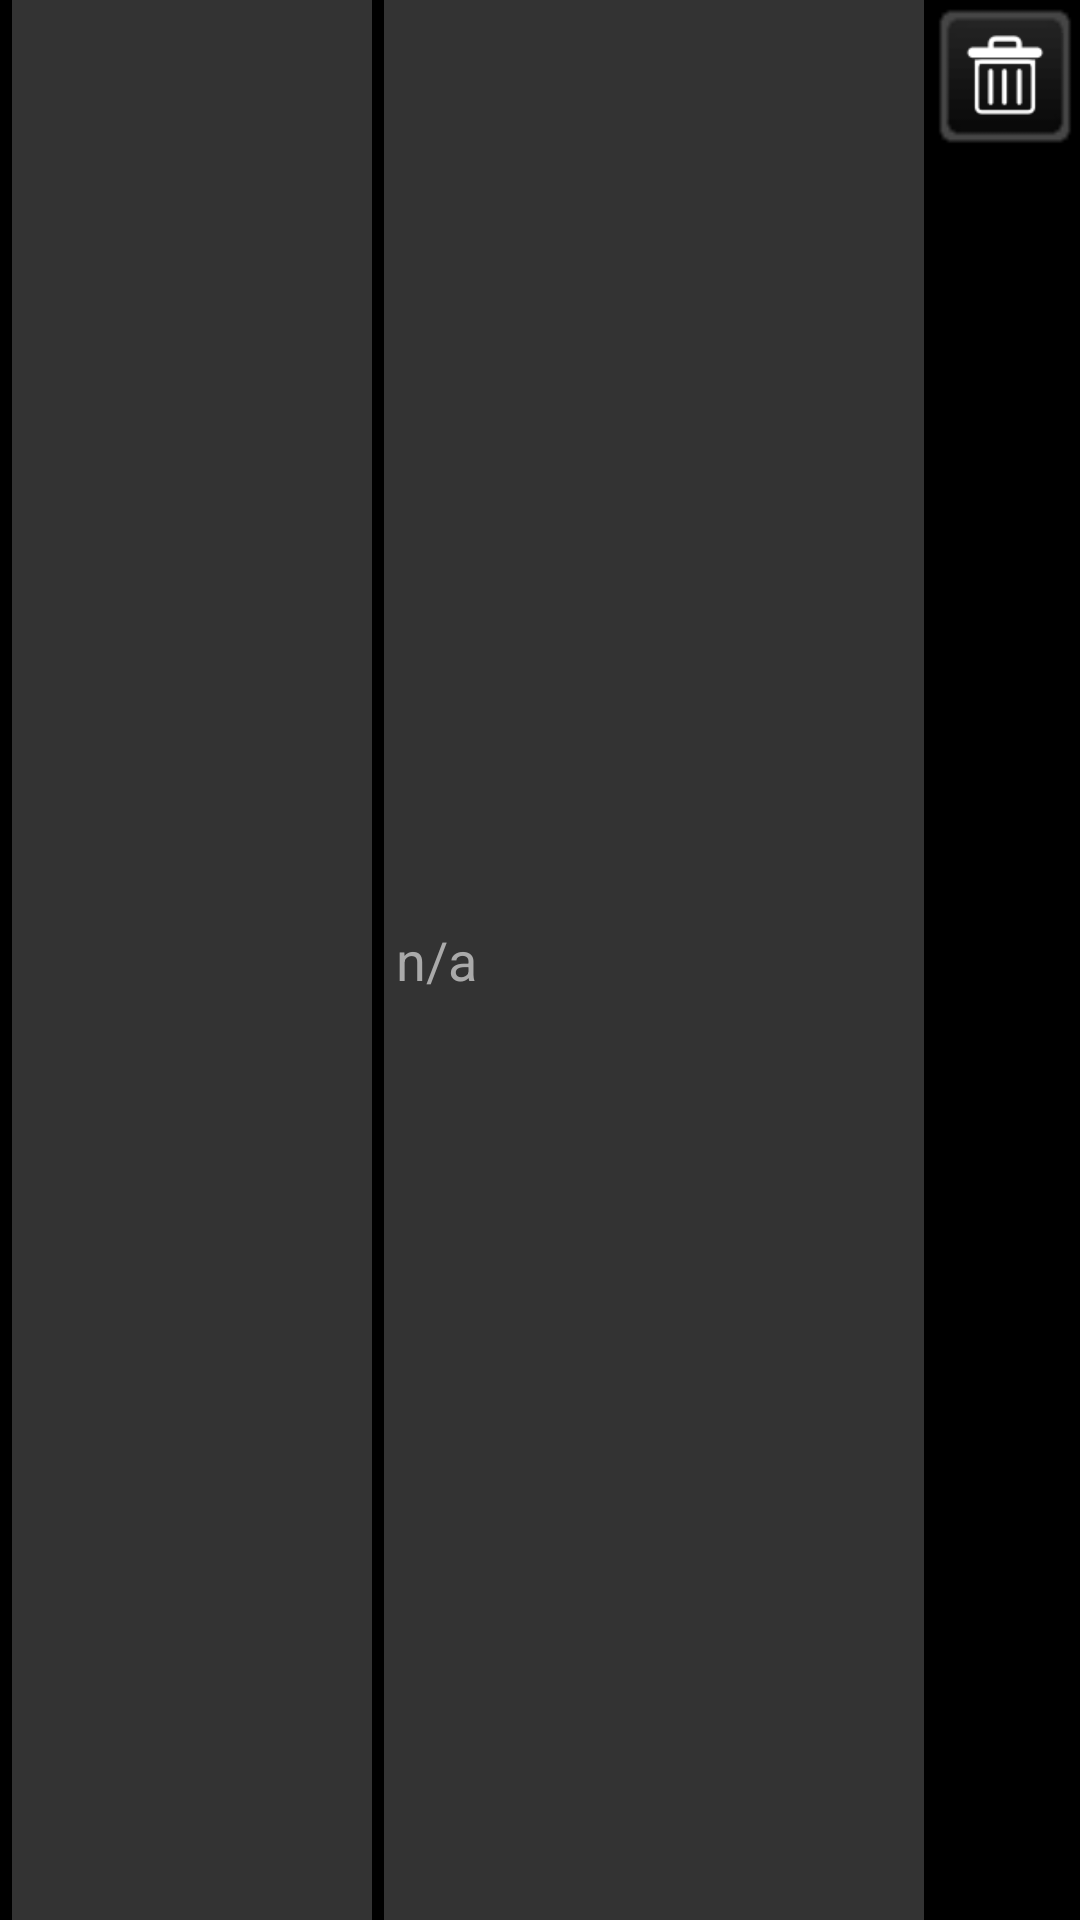

Icon bounding boxes for this 1080 x 1920 phone screenshot, format box=[x1, y1, x2, y2]:
delete: box=[940, 11, 1070, 142]
